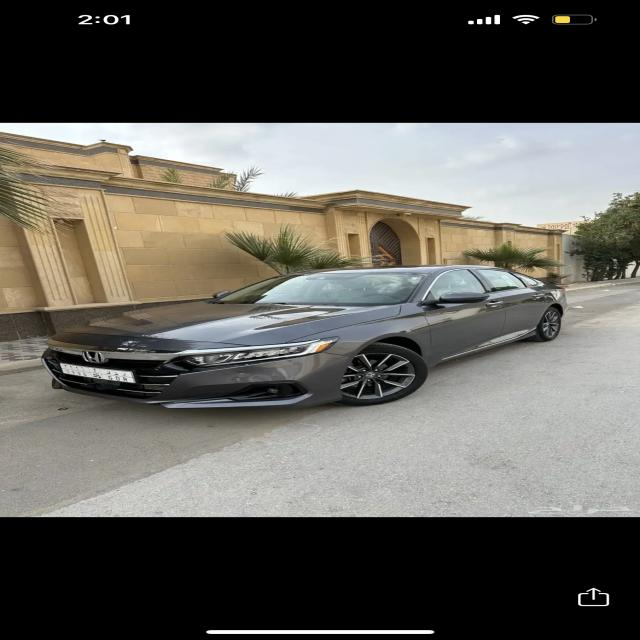license_plate: (58, 361, 139, 384)
